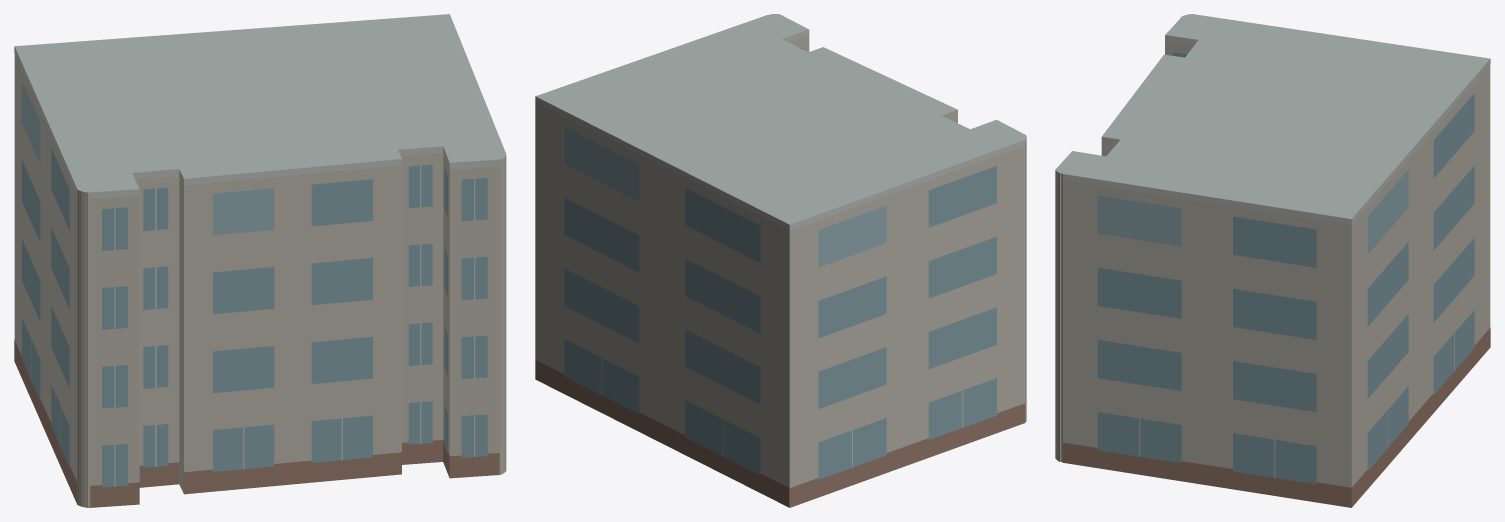
File: survey-upis-32965543.glb
The picture shows the model from 3 angles, left to right: view 1: azimuth 30°, elevation 25°; view 2: azimuth 150°, elevation 25°; view 3: azimuth 270°, elevation 25°; orthographic projection. The views are drawn at different scales.
Visible parts, largest first — view 1: survey-upis-32965543.tmp; view 2: survey-upis-32965543.tmp; view 3: survey-upis-32965543.tmp.
Boxes of the visible parts, left/top/right/bottom form: survey-upis-32965543.tmp: left=14, top=14, right=506, bottom=507; survey-upis-32965543.tmp: left=535, top=14, right=1026, bottom=507; survey-upis-32965543.tmp: left=1055, top=14, right=1490, bottom=507.
Size of the model in its own units: 17.53 by 11.5 by 15.71.
